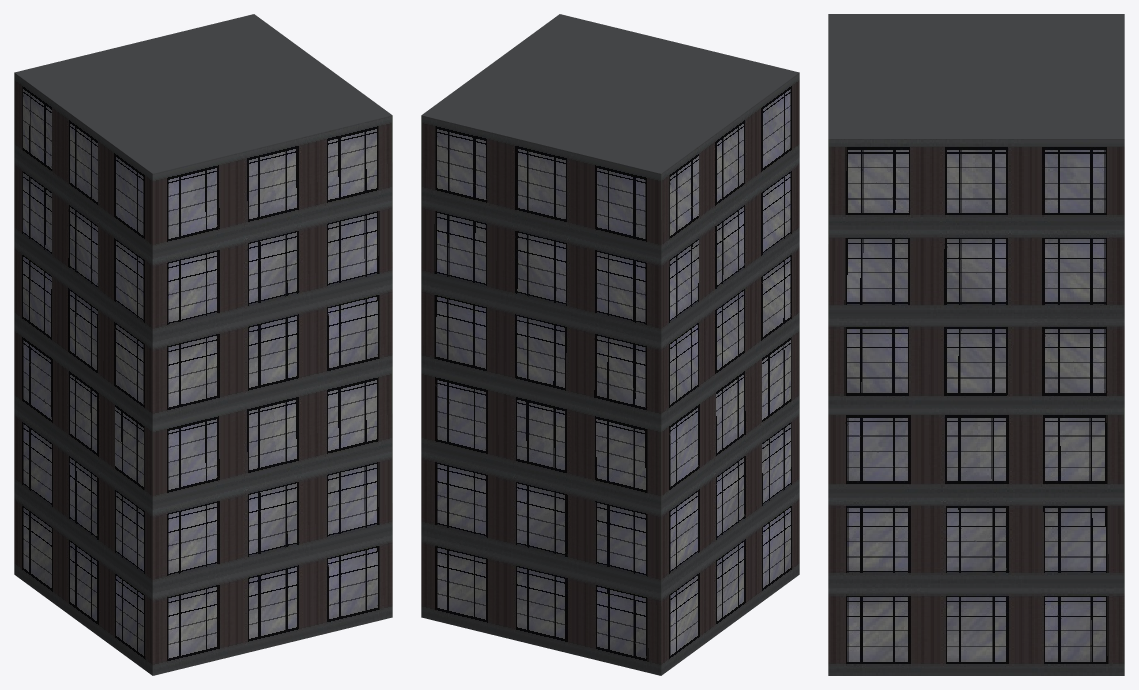
File: 2story_3.glb
The picture shows the model from 3 angles, left to right: view 1: azimuth 30°, elevation 25°; view 2: azimuth 150°, elevation 25°; view 3: azimuth 270°, elevation 25°; orthographic projection. The views are drawn at different scales.
Visible parts, largest first — view 1: skyscraper_two_3; view 2: skyscraper_two_3; view 3: skyscraper_two_3.
Part boxes in pixels (left/top/right/bottom): skyscraper_two_3: left=14, top=14, right=392, bottom=675; skyscraper_two_3: left=421, top=14, right=799, bottom=675; skyscraper_two_3: left=828, top=14, right=1124, bottom=675.
Size of the model in its own units: 20 by 40 by 20.
Materials: 1 (1 with a texture image).
